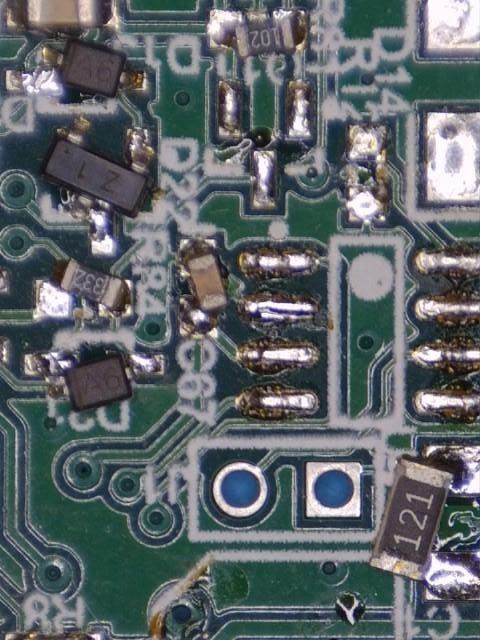pcb_defect: (366, 441, 480, 603), (37, 116, 156, 257), (23, 349, 164, 414), (4, 36, 145, 101), (32, 257, 133, 319), (207, 7, 310, 58), (178, 238, 230, 337)
